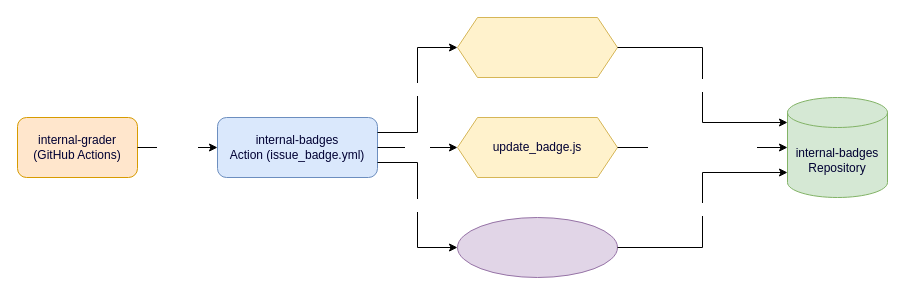
Image size: 905x295. Some labels were removed from this diagram. Each missing label, with the centre of its shape:
"Cosign (Sigstore) Keyless Signer" belongs at pixel 537 247.
"generate_badges_md.js" belongs at pixel 537 47.
